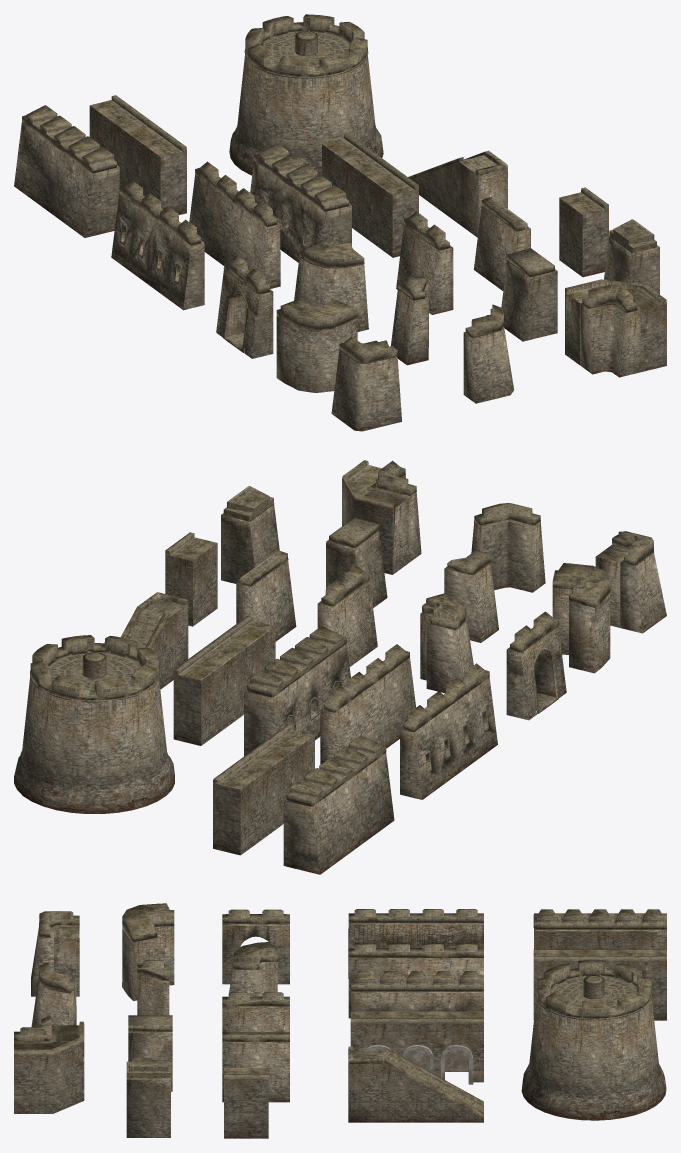
The model's file is modular_fort_01.glb.
3 views of the same model, one above another, from view 1: azimuth 30°, elevation 25°; view 2: azimuth 150°, elevation 25°; view 3: azimuth 270°, elevation 25° (orthographic). The views are drawn at different scales.
Parts seen in each view (by area): view 1: modular_fort_01_tower_round, modular_fort_01_wall_thick_straight_01, modular_fort_01_wall_thin_straight_02, modular_fort_01_wall_thick_straight_02, modular_fort_01_wall_thin_straight_01, modular_fort_01_wall_walkway_straight_01, modular_fort_01_wall_walkway_straight_02, modular_fort_01_wall_thick_corner_02, modular_fort_01_wall_thin_corner_02, modular_fort_01_wall_thin_corner_01, modular_fort_01_wall_stairs_straight_01, modular_fort_01_wall_thin_gate_01 (+9 smaller); view 2: modular_fort_01_tower_round, modular_fort_01_wall_thick_straight_01, modular_fort_01_wall_thin_straight_02, modular_fort_01_wall_walkway_straight_01, modular_fort_01_wall_walkway_straight_02, modular_fort_01_wall_thick_straight_02, modular_fort_01_wall_thin_straight_01, modular_fort_01_wall_thick_corner_02, modular_fort_01_wall_thin_corner_03, modular_fort_01_wall_thin_gate_01, modular_fort_01_wall_thick_corner_01, modular_fort_01_wall_thick_end_02 (+10 smaller); view 3: modular_fort_01_tower_round, modular_fort_01_wall_stairs_straight_01, modular_fort_01_wall_walkway_straight_01, modular_fort_01_wall_walkway_corner_01, modular_fort_01_wall_thick_straight_01, modular_fort_01_wall_thick_straight_02, modular_fort_01_wall_thin_straight_02, modular_fort_01_wall_thin_straight_01, modular_fort_01_wall_thick_corner_02, modular_fort_01_wall_thick_end_02, modular_fort_01_wall_walkway_straight_02, modular_fort_01_wall_thin_straight_03 (+10 smaller).
Part boxes in pixels (x1,y1,x2,y2): modular_fort_01_tower_round: [229, 14, 383, 175]; modular_fort_01_wall_thick_straight_01: [14, 105, 119, 237]; modular_fort_01_wall_thin_straight_02: [111, 180, 204, 310]; modular_fort_01_wall_thick_straight_02: [250, 143, 351, 262]; modular_fort_01_wall_thin_straight_01: [189, 161, 280, 288]; modular_fort_01_wall_walkway_straight_01: [322, 133, 418, 257]; modular_fort_01_wall_walkway_straight_02: [89, 95, 186, 214]; modular_fort_01_wall_thick_corner_02: [276, 298, 357, 392]; modular_fort_01_wall_thin_corner_02: [331, 336, 401, 431]; modular_fort_01_wall_thin_corner_01: [580, 284, 640, 377]; modular_fort_01_wall_stairs_straight_01: [408, 150, 507, 237]; modular_fort_01_wall_thin_gate_01: [216, 255, 273, 358]; modular_fort_01_tower_round: [14, 635, 174, 813]; modular_fort_01_wall_thick_straight_01: [283, 735, 394, 874]; modular_fort_01_wall_thin_straight_02: [400, 663, 497, 799]; modular_fort_01_wall_walkway_straight_01: [173, 615, 275, 745]; modular_fort_01_wall_walkway_straight_02: [213, 724, 314, 855]; modular_fort_01_wall_thick_straight_02: [244, 626, 350, 756]; modular_fort_01_wall_thin_straight_01: [320, 644, 415, 764]; modular_fort_01_wall_thick_corner_02: [552, 563, 610, 673]; modular_fort_01_wall_thin_corner_03: [471, 503, 545, 592]; modular_fort_01_wall_thin_gate_01: [506, 611, 566, 720]; modular_fort_01_wall_thick_corner_01: [420, 593, 473, 693]; modular_fort_01_wall_thick_end_02: [221, 486, 279, 583]; modular_fort_01_tower_round: [521, 960, 666, 1120]; modular_fort_01_wall_stairs_straight_01: [348, 1046, 483, 1122]; modular_fort_01_wall_walkway_straight_01: [350, 1011, 483, 1084]; modular_fort_01_wall_walkway_corner_01: [14, 1021, 84, 1113]; modular_fort_01_wall_thick_straight_01: [533, 909, 666, 949]; modular_fort_01_wall_thick_straight_02: [350, 971, 483, 1011]; modular_fort_01_wall_thin_straight_02: [348, 909, 483, 978]; modular_fort_01_wall_thin_straight_01: [348, 943, 483, 1018]; modular_fort_01_wall_thick_corner_02: [122, 903, 174, 1000]; modular_fort_01_wall_thick_end_02: [126, 1057, 170, 1137]; modular_fort_01_wall_walkway_straight_02: [533, 949, 666, 1020]; modular_fort_01_wall_thin_straight_03: [222, 1032, 289, 1102].
Size of the model in its own units: 42.66 by 13.58 by 71.38.
3 materials, 3 textured.
